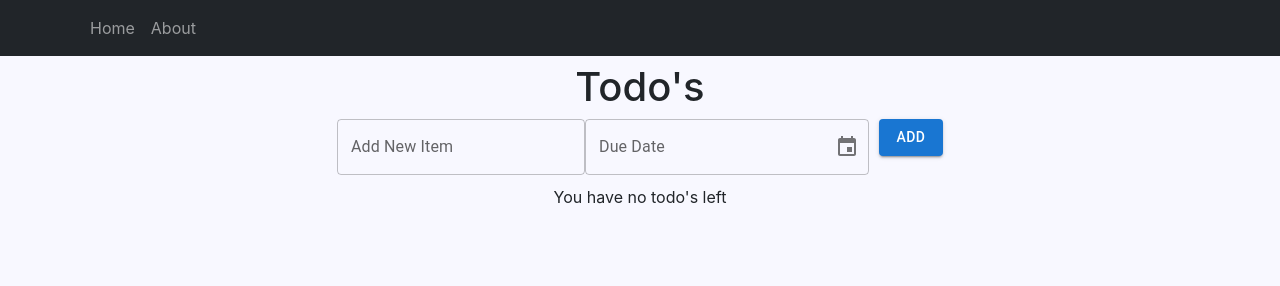
Test case: test that App component can be deleted thru checkbox
This screenshot has width=1280, height=286.
Type "History Test" into the field labelled "Add New Item" at [461, 147], box [337,119,585,175]
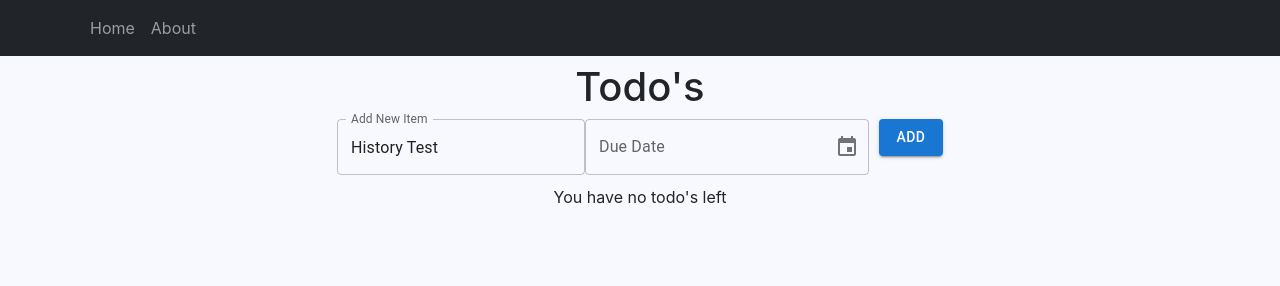
Type "05/30/2023" into the field with placeholder "mm/dd/yyyy" at [702, 147], box [585,119,819,175]
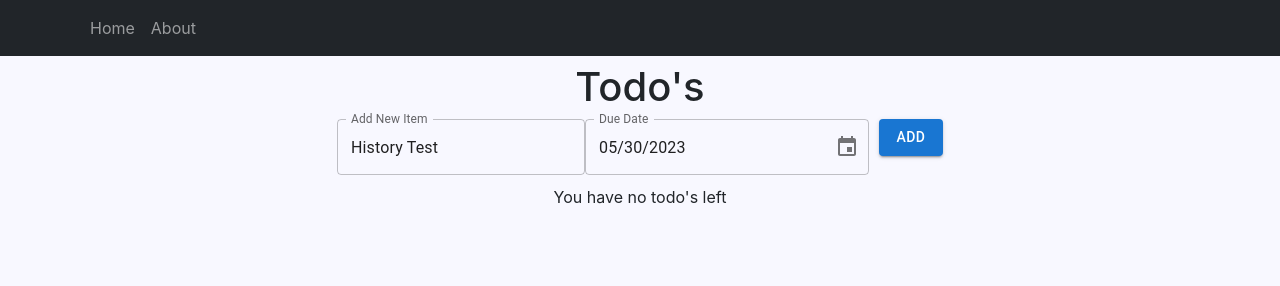
Click the button "Add" at [911, 137], box [879,119,943,156]
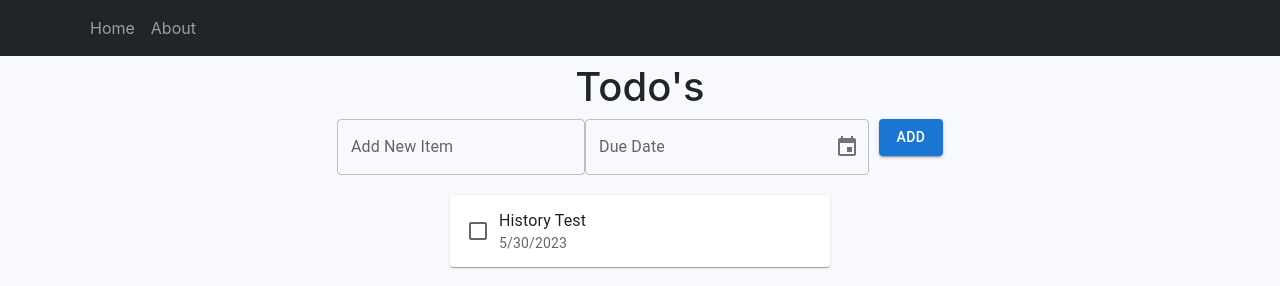
Check: the text "History Test" is shown, box [499,211,586,230]
delete the task
Click the checkbox at [478, 231], box [466,219,490,243]
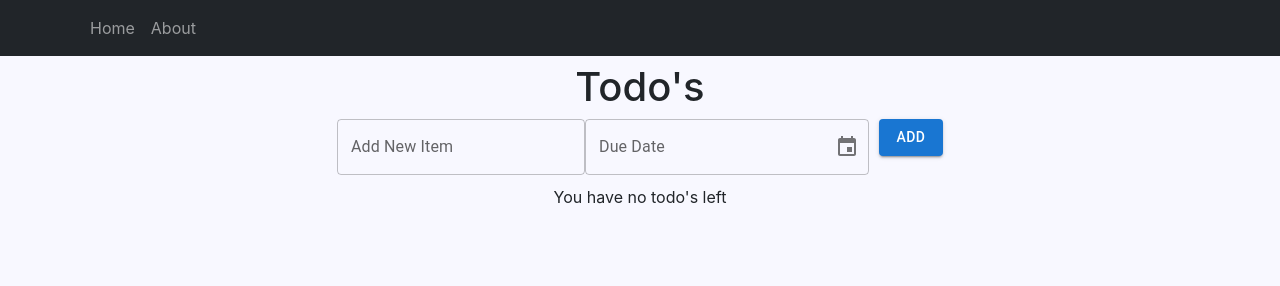
Check: the text "You have no todo's left" is shown, box [554,187,726,207]
